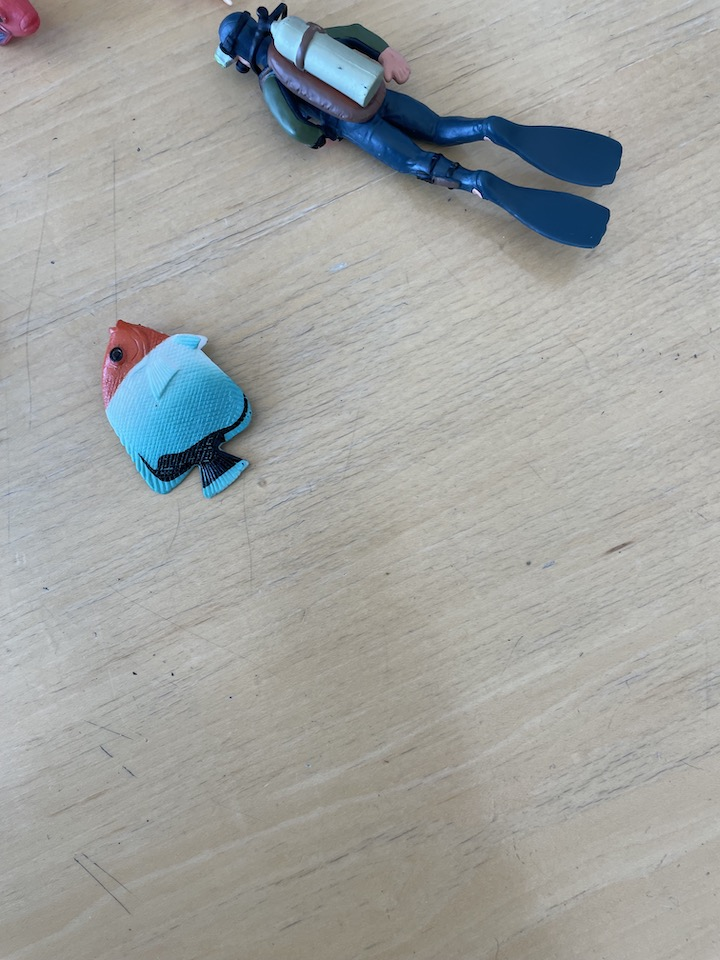diver: (209, 4, 628, 256)
fish: (99, 317, 256, 502), (1, 1, 50, 49)
